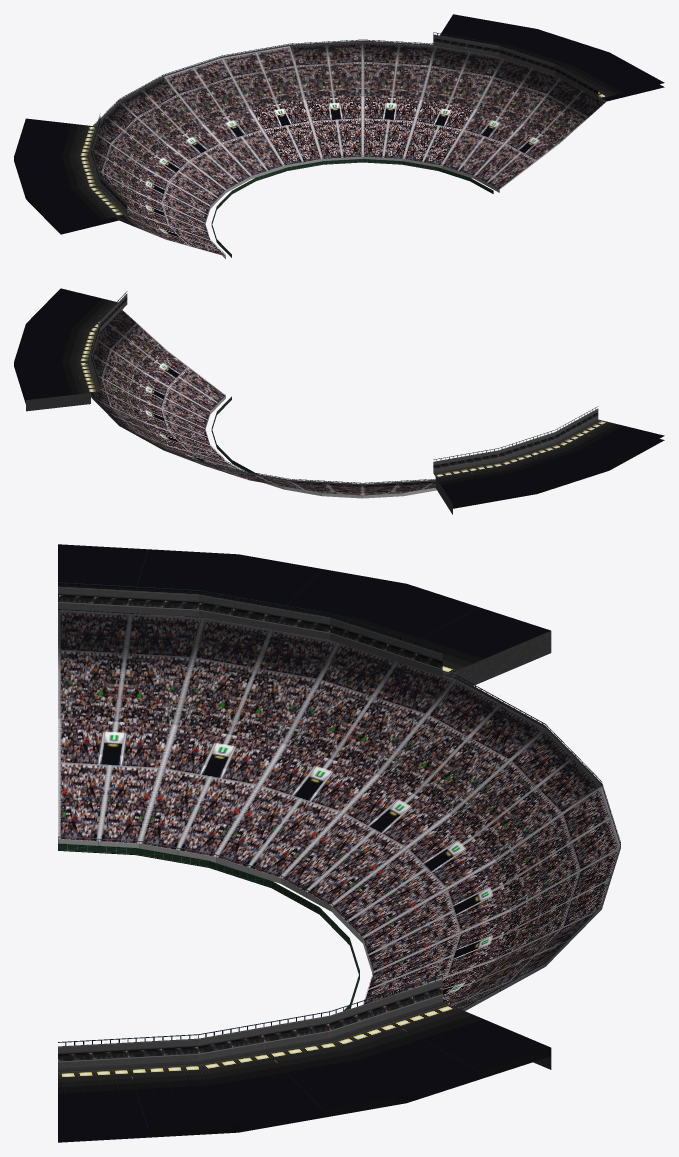
Rendered from part_01_off_01FCC.obj.
3 views of the same model, one above another, from view 1: azimuth 30°, elevation 25°; view 2: azimuth 150°, elevation 25°; view 3: azimuth 270°, elevation 25° (orthographic). The views are drawn at different scales.
Size of the model in its own units: 203 by 26.8 by 82.
Materials: 13 (13 with a texture image).
